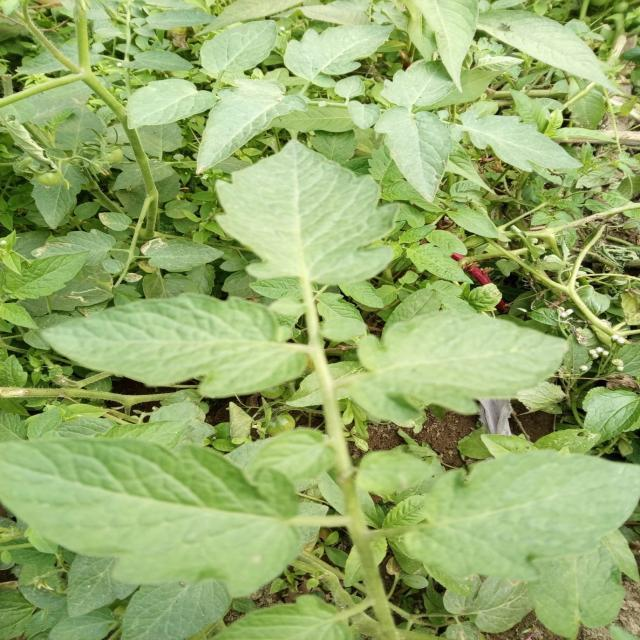Healthy: (0, 421, 312, 604), (38, 278, 312, 407), (402, 445, 640, 583), (206, 132, 404, 293), (333, 297, 571, 430), (167, 57, 308, 175), (451, 94, 587, 192), (364, 87, 477, 203), (364, 87, 476, 203), (283, 24, 392, 87), (123, 74, 216, 129), (196, 19, 282, 77)
